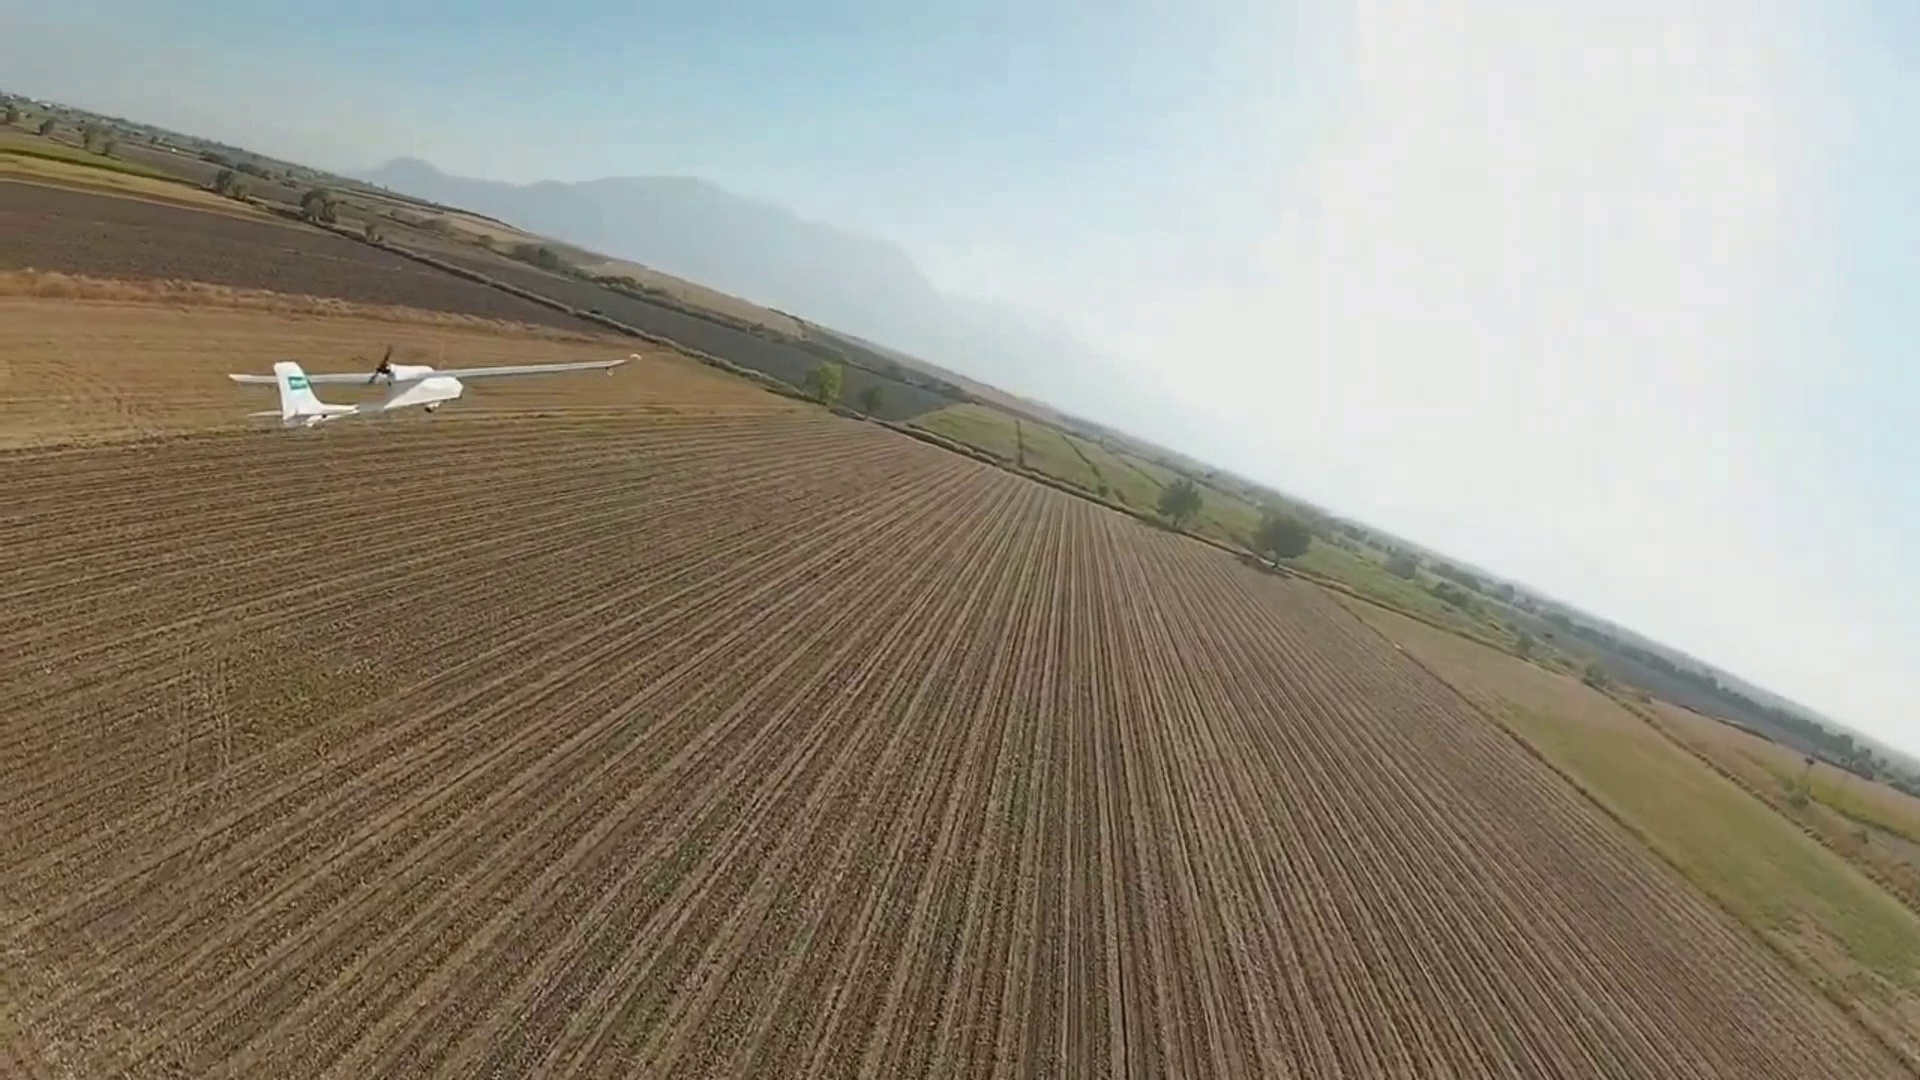airplane: (225, 352, 462, 429)
